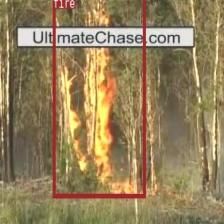fire: (52, 0, 145, 197)
